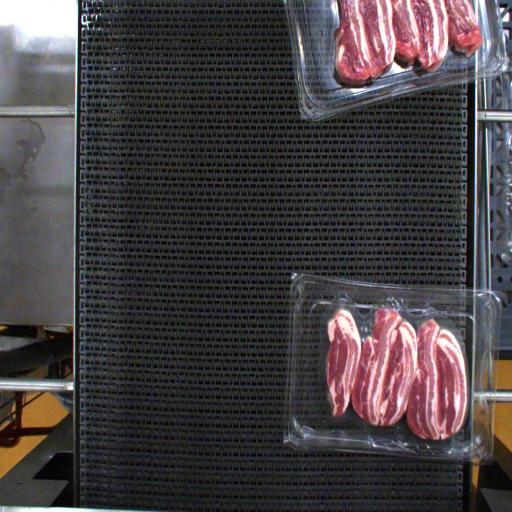unsealed: (318, 289, 470, 416)
